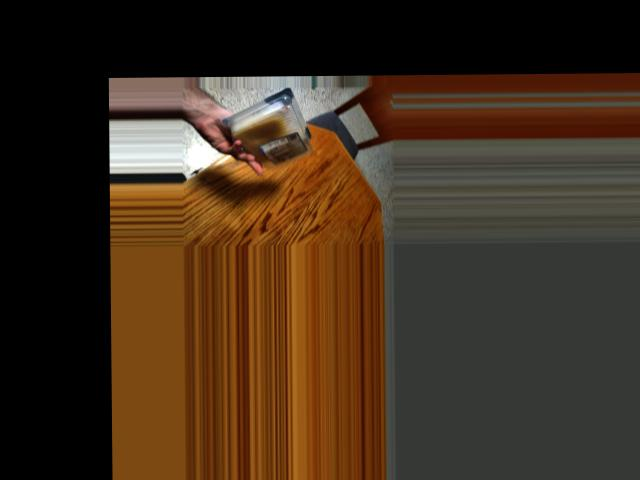cheese: (228, 100, 312, 160)
